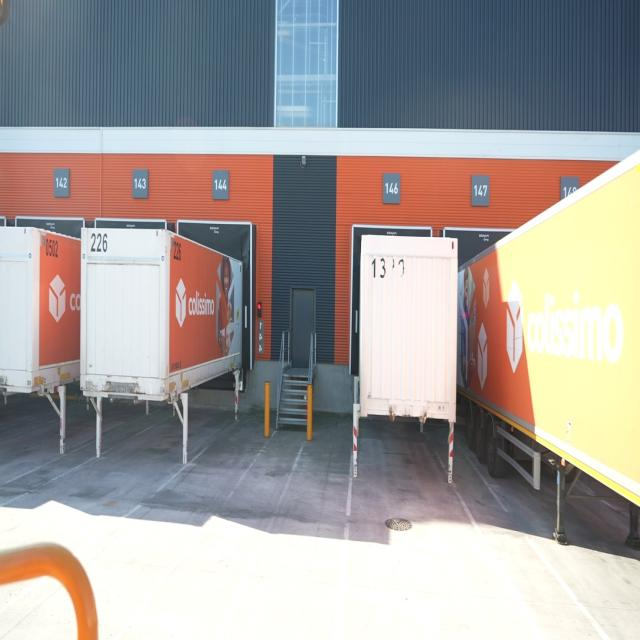Code: (368, 247, 408, 286), (85, 228, 112, 258), (41, 230, 63, 264)
